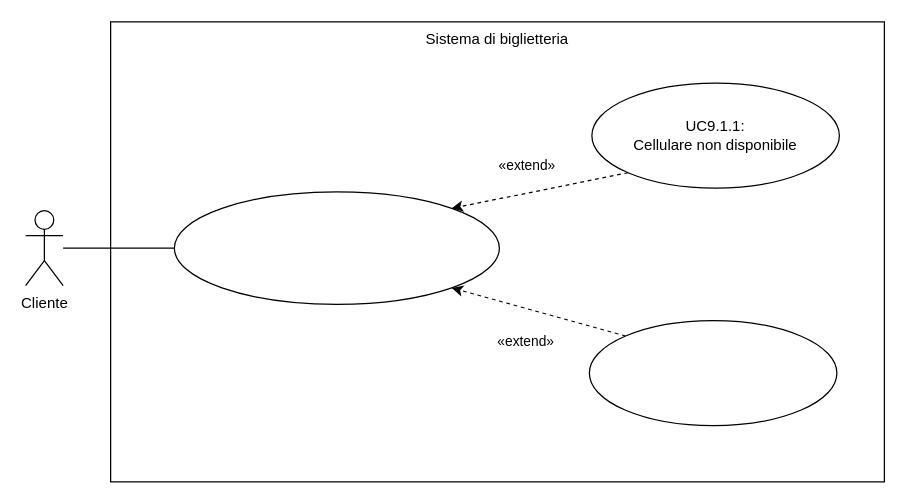
Some shapes in this 906 by 504 pixel diagram are drawn without their labels. The centre of each missing label's shape, as x and y in pixels:
UC9.1.2: Verifica OTP fallita: pixel 712 372
UC9.1: Creazione dell'account cliente: pixel 336 247
